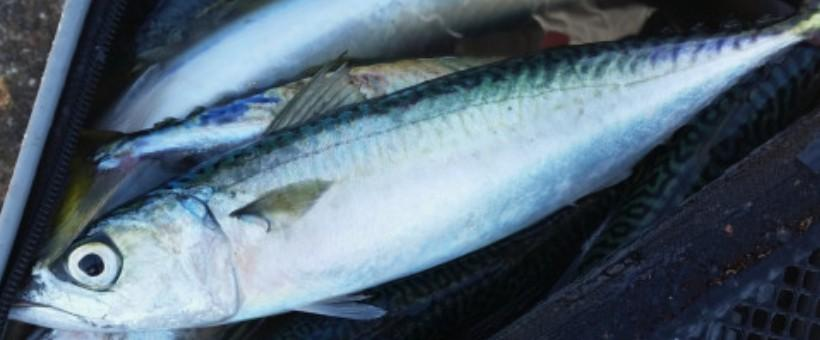fish: (9, 11, 817, 331)
